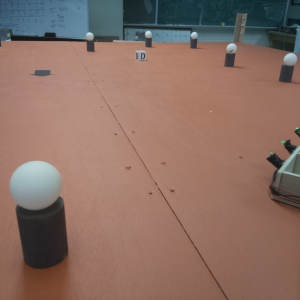blockD: (134, 51, 145, 61)
corner: (235, 13, 245, 44)
obstacle: (17, 158, 61, 269), (281, 53, 296, 83), (226, 43, 235, 69), (86, 31, 95, 52), (143, 30, 153, 48), (190, 32, 198, 50)
side: (265, 126, 300, 206)
start: (31, 67, 53, 80)
